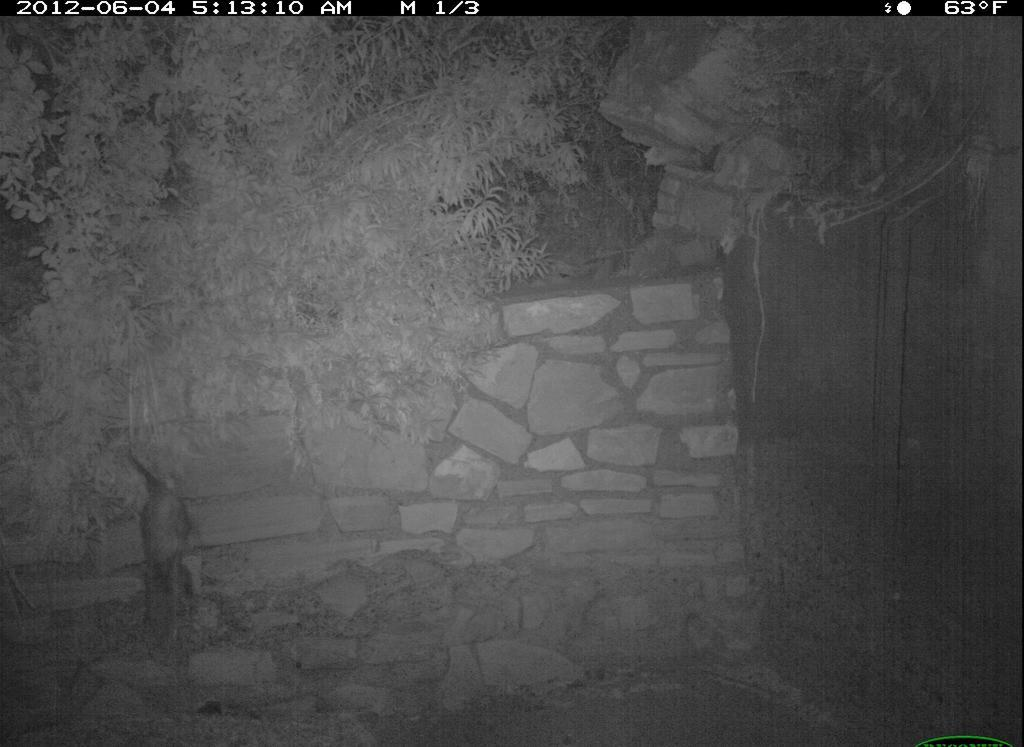opossum: (109, 444, 226, 616)
